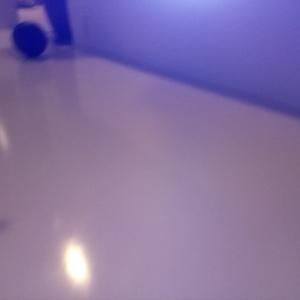dead_ball: (12, 20, 48, 56)
